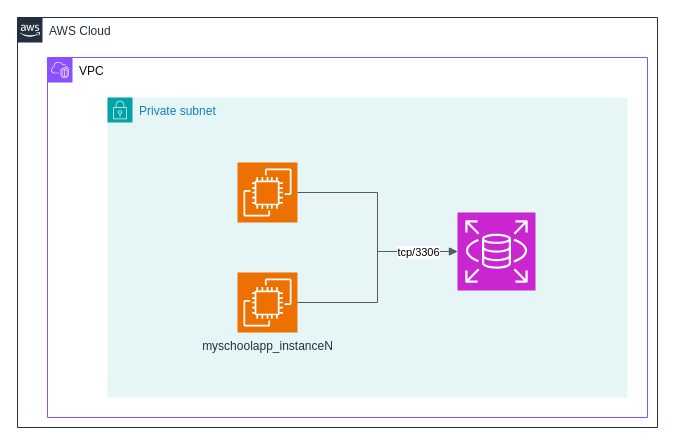
Some shapes in this 675 by 445 pixel diagram are drawn without their labels. The centre of each missing label's shape, as x and y in pixels:
"myschoolapp_db" goes at point 496,251.
"myschoolapp_instance1" goes at point 267,192.
